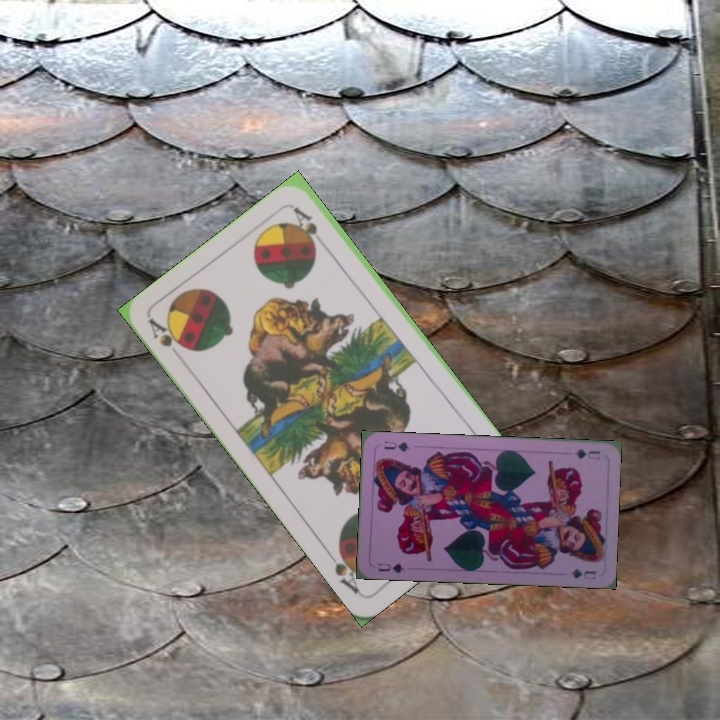GU: (374, 559, 407, 576), (571, 445, 603, 462)
SA: (144, 314, 191, 365)
